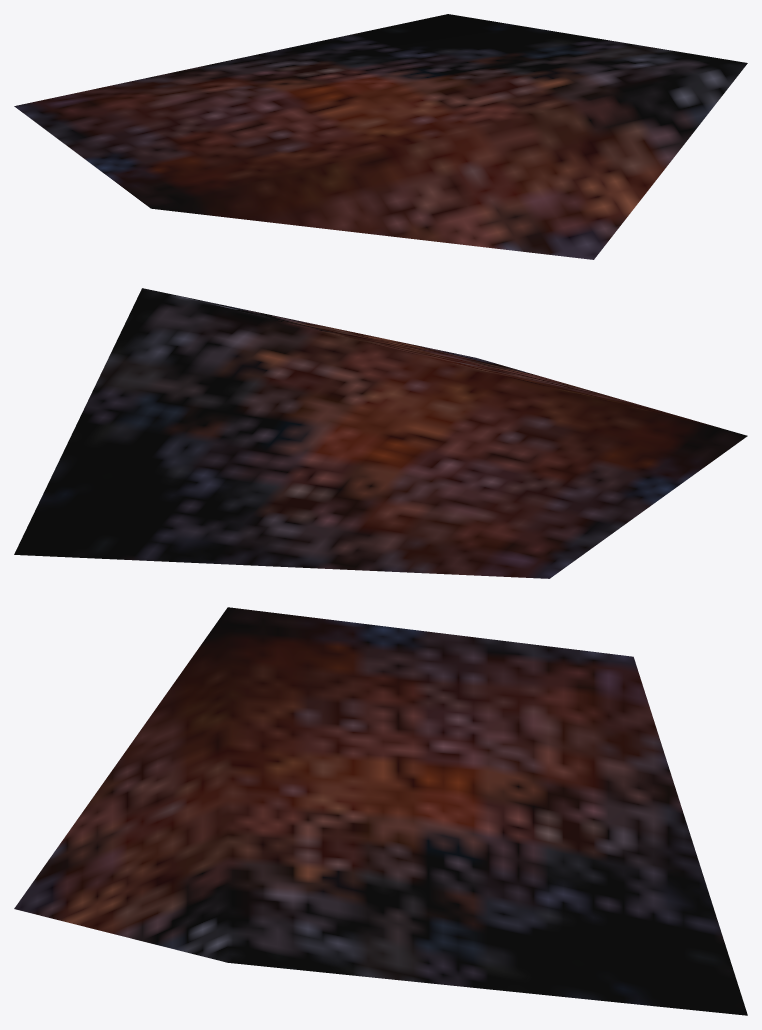
File: shard_wreckVeh_02.glb
The picture shows the model from 3 angles, top to bottom: view 1: azimuth 30°, elevation 25°; view 2: azimuth 150°, elevation 25°; view 3: azimuth 270°, elevation 25°; orthographic projection. The views are drawn at different scales.
Parts seen in each view (by area): view 1: SHARD_WRECKVEH_02; view 2: SHARD_WRECKVEH_02; view 3: SHARD_WRECKVEH_02.
Part boxes in pixels (x1=…): SHARD_WRECKVEH_02: x1=14, y1=14, x2=747, y2=259; SHARD_WRECKVEH_02: x1=14, y1=288, x2=747, y2=578; SHARD_WRECKVEH_02: x1=14, y1=607, x2=747, y2=1015.
Bounding box in the file's own units: 0.736 × 0.101 × 0.642.
1 material, 1 textured.
